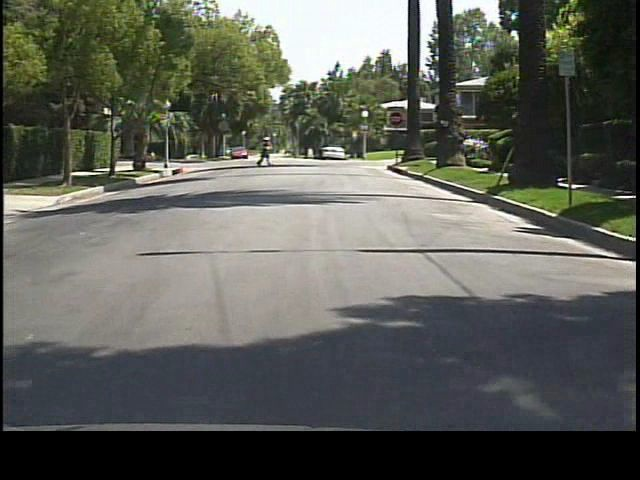person: (259, 134, 274, 167)
